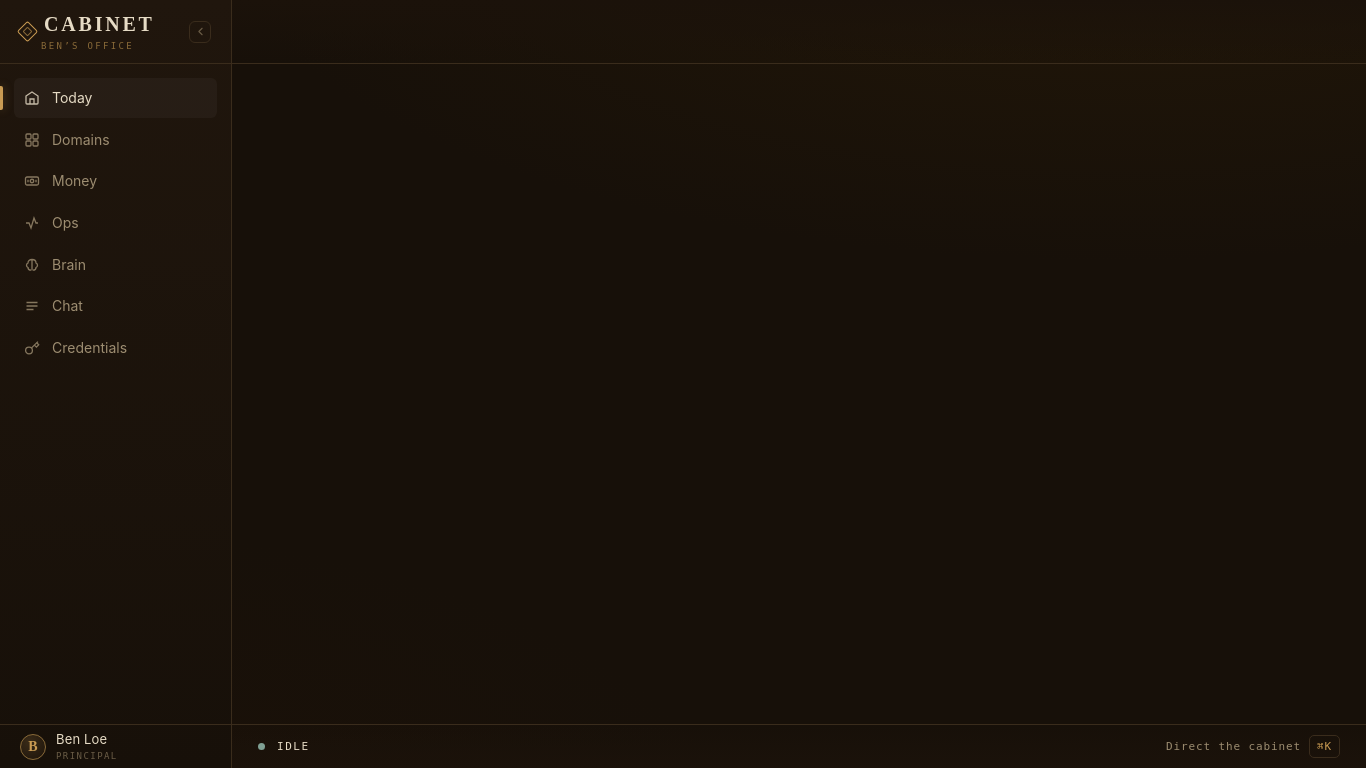
Test: CommandBar › opens on ⌘K, submits an intent on Enter, and closes on Esc
Note: ⌘K opens
Press k
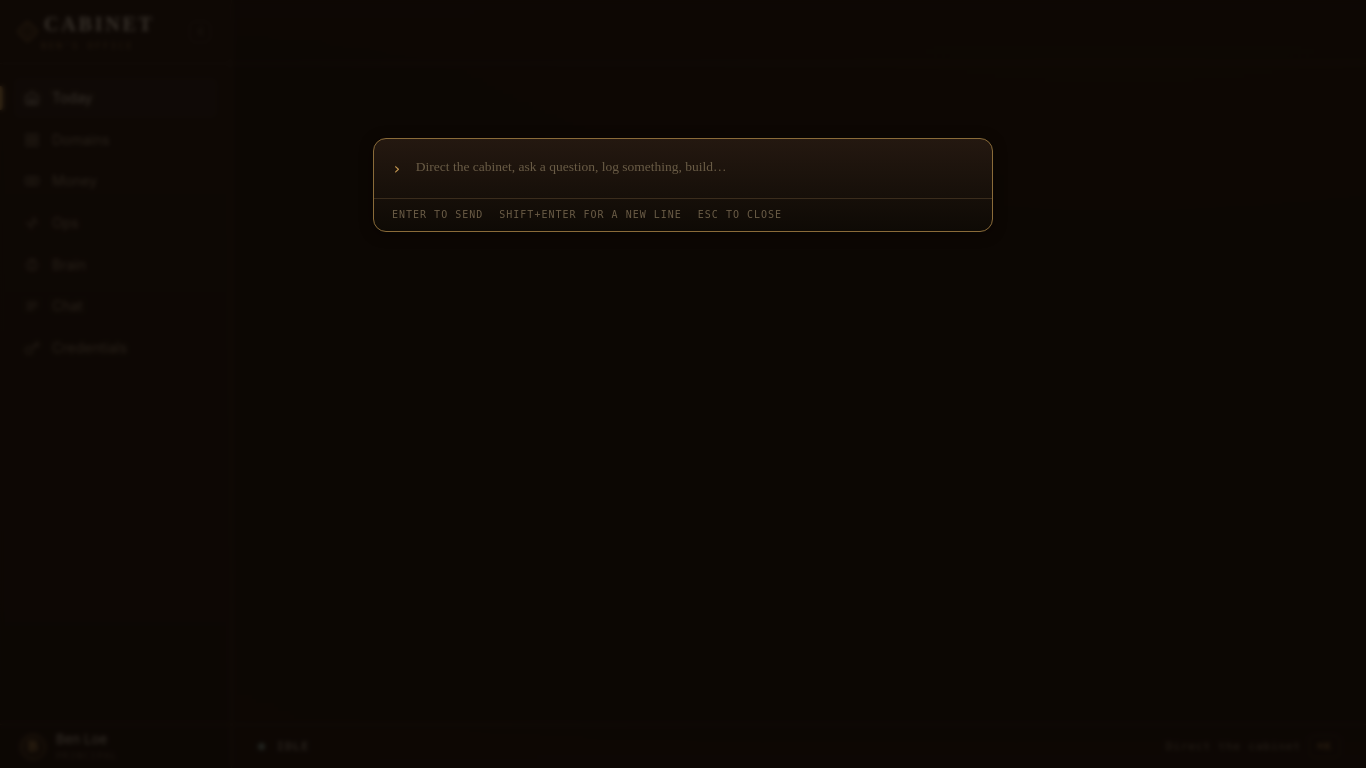
Type "log two eggs" into the text box named "Command input" at (694, 167), box top-left (414, 155), bottom-right (974, 179)
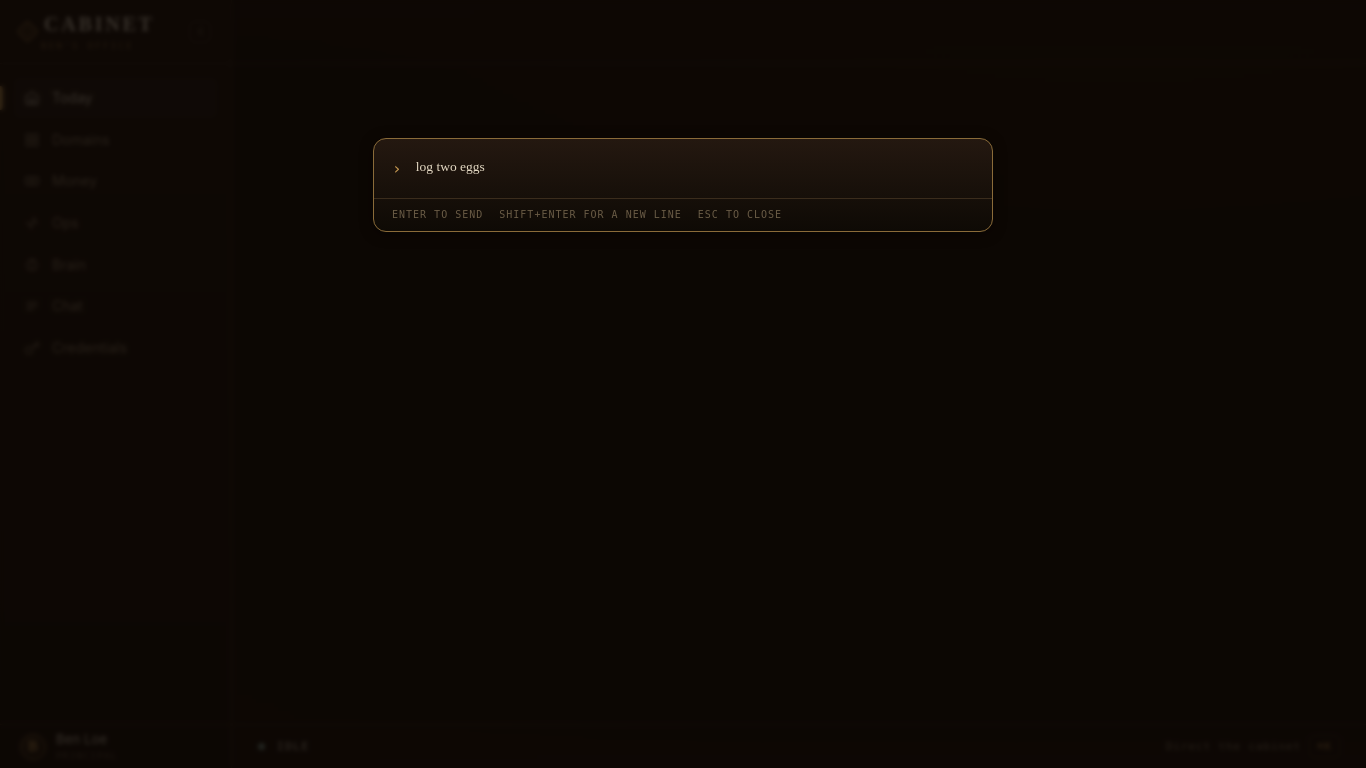
Press Enter in the text box named "Command input", box top-left (414, 155), bottom-right (974, 179)
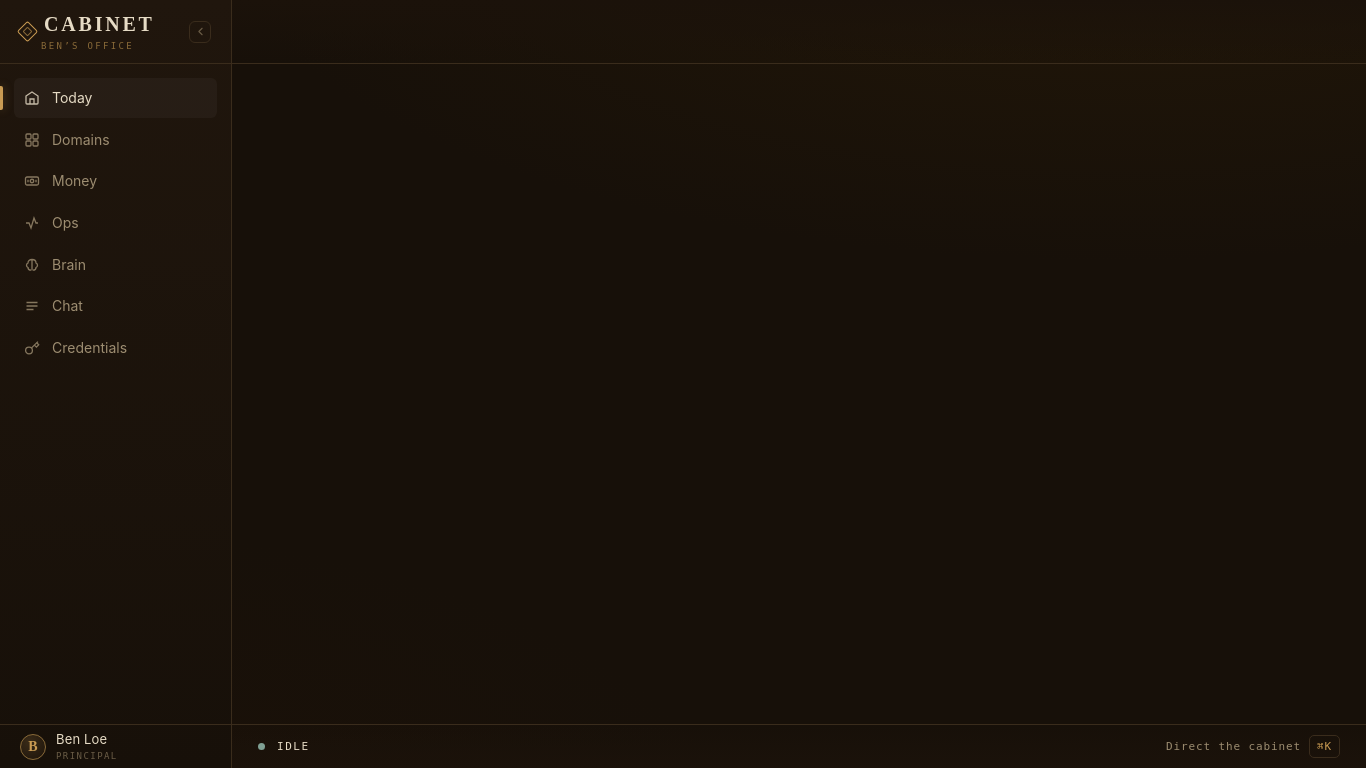
Expected: the dialog is gone
Note: reopen then Esc closes
Press k
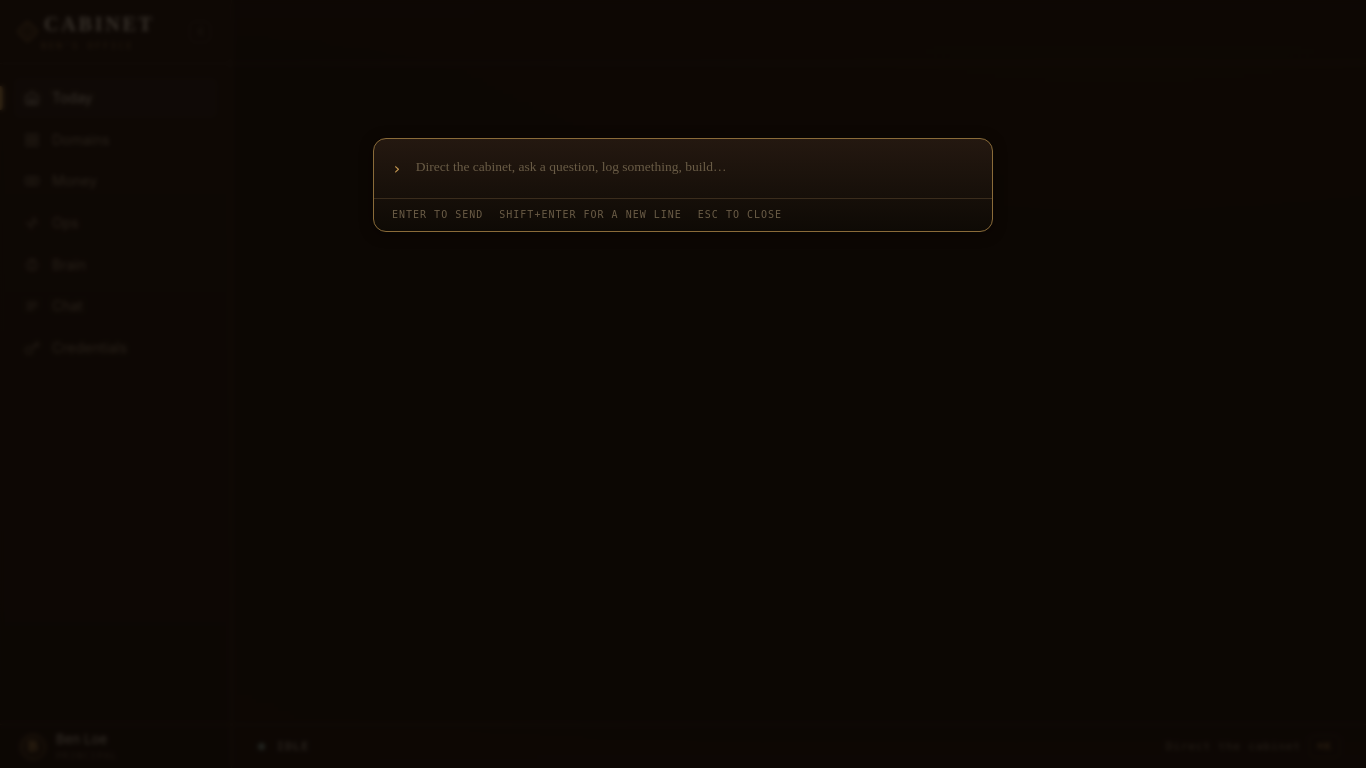
Expected: the dialog is shown
Press Escape
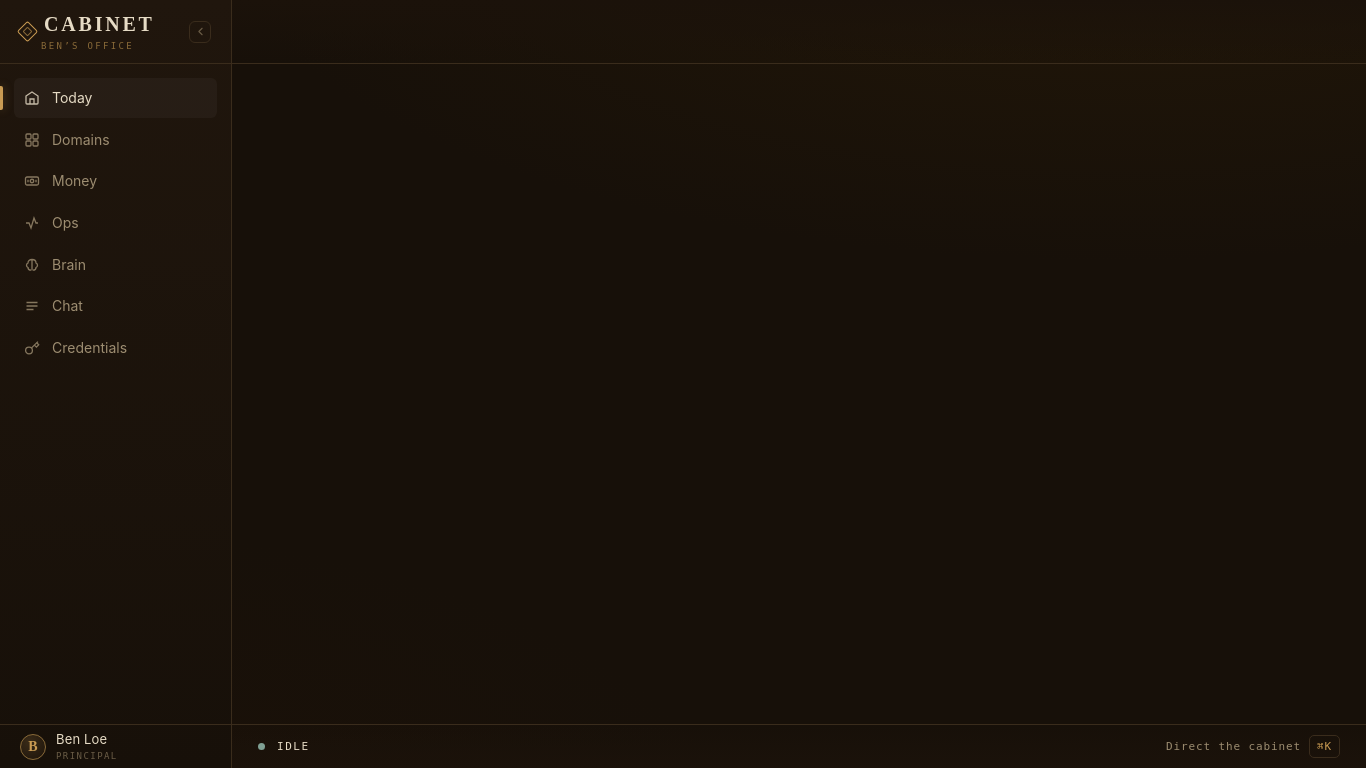
Expected: the dialog is gone
